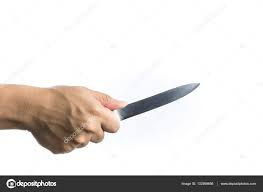knife: (49, 80, 202, 156)
